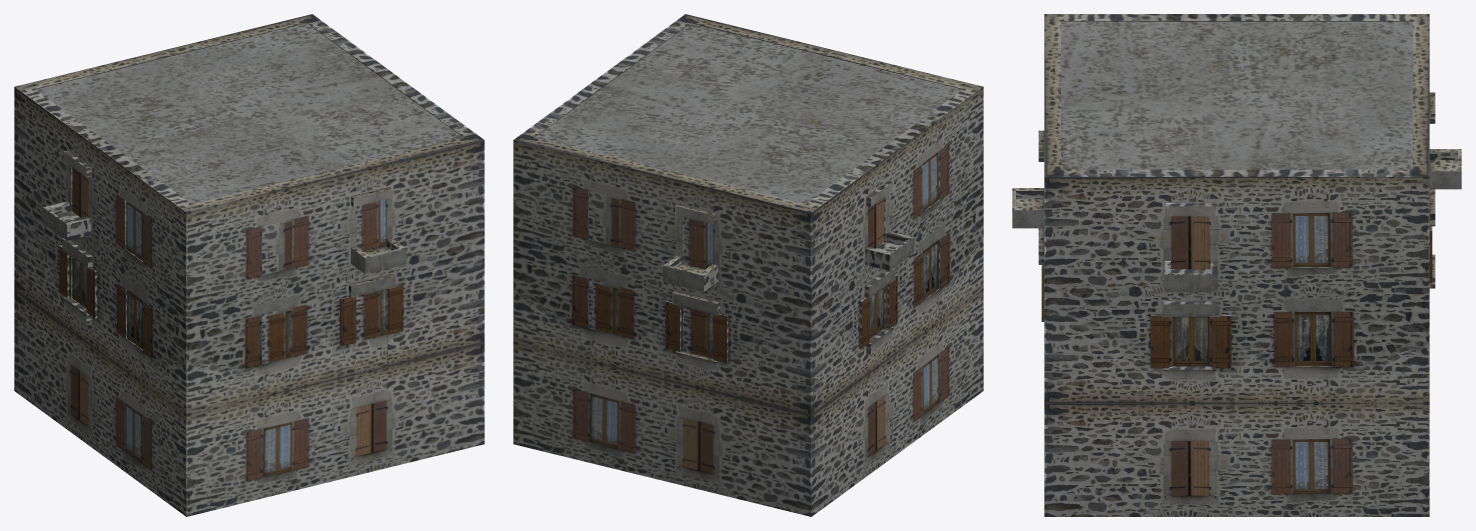
Rendered from BagBuilding15_70.fbx.
3 renders of one model, left to right at view 1: azimuth 30°, elevation 25°; view 2: azimuth 150°, elevation 25°; view 3: azimuth 270°, elevation 25°, orthographic. The views are drawn at different scales.
Visible parts, largest first — view 1: main70, mainFlip70, Roof70, BoxMainFlip70, BoxMain70; view 2: main70, mainFlip70, Roof70, BoxMainFlip70, BoxMain70; view 3: mainFlip70, Roof70, main70, BoxMain70.
Part boxes in pixels (bbox=[...]): main70: bbox=[14, 14, 484, 516]; mainFlip70: bbox=[14, 22, 306, 516]; Roof70: bbox=[35, 23, 463, 203]; BoxMainFlip70: bbox=[262, 199, 387, 373]; BoxMain70: bbox=[72, 167, 142, 349]; main70: bbox=[513, 14, 983, 516]; mainFlip70: bbox=[691, 22, 983, 516]; Roof70: bbox=[534, 23, 962, 203]; BoxMainFlip70: bbox=[589, 190, 712, 358]; BoxMain70: bbox=[868, 151, 938, 338]; mainFlip70: bbox=[1044, 176, 1429, 516]; Roof70: bbox=[1061, 21, 1412, 169]; main70: bbox=[1012, 14, 1461, 366]; BoxMain70: bbox=[1172, 212, 1332, 366].
Bounding box in the file's own units: 19.63 × 16.39 × 19.62.
